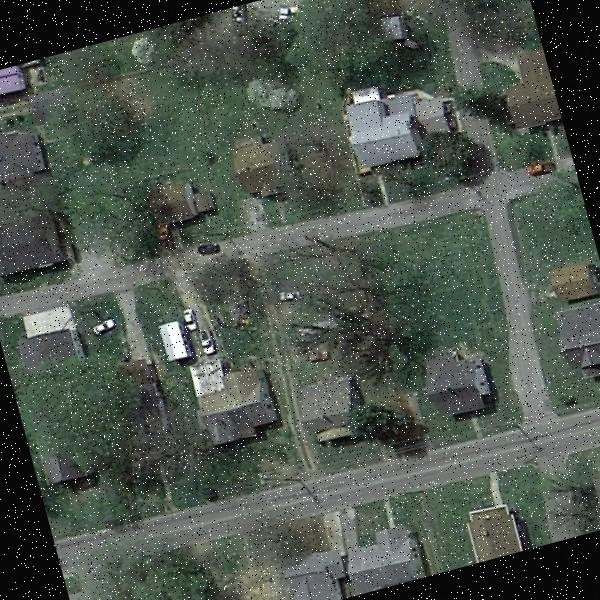Buildings: (278, 522, 435, 600), (344, 81, 456, 167), (192, 362, 274, 442), (541, 270, 600, 376), (413, 355, 502, 422), (0, 200, 72, 280), (499, 52, 563, 134), (9, 298, 79, 372), (290, 374, 364, 440), (461, 494, 525, 564), (235, 144, 293, 199), (152, 176, 213, 226), (0, 138, 45, 193), (583, 448, 600, 530)
